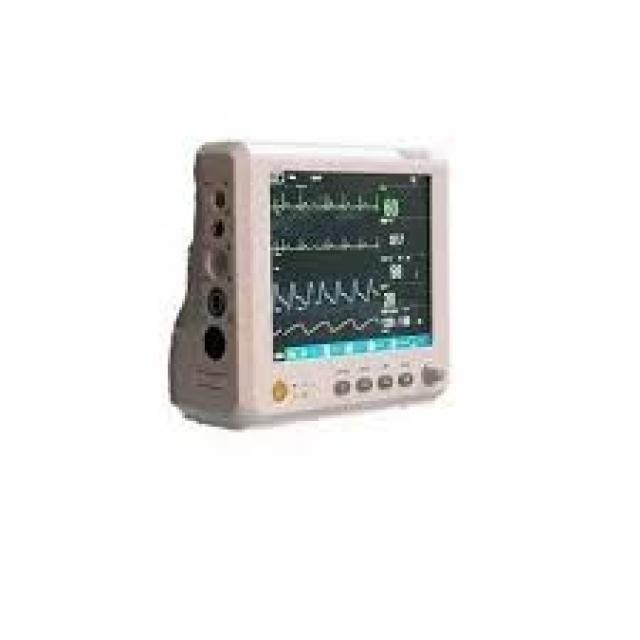cardiac_monitor: (211, 137, 458, 413)
